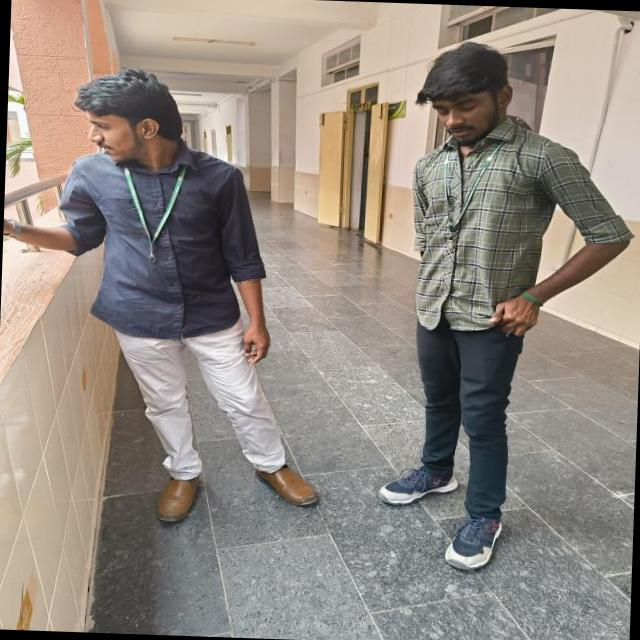id_card: (120, 152, 180, 276), (432, 138, 486, 255)
